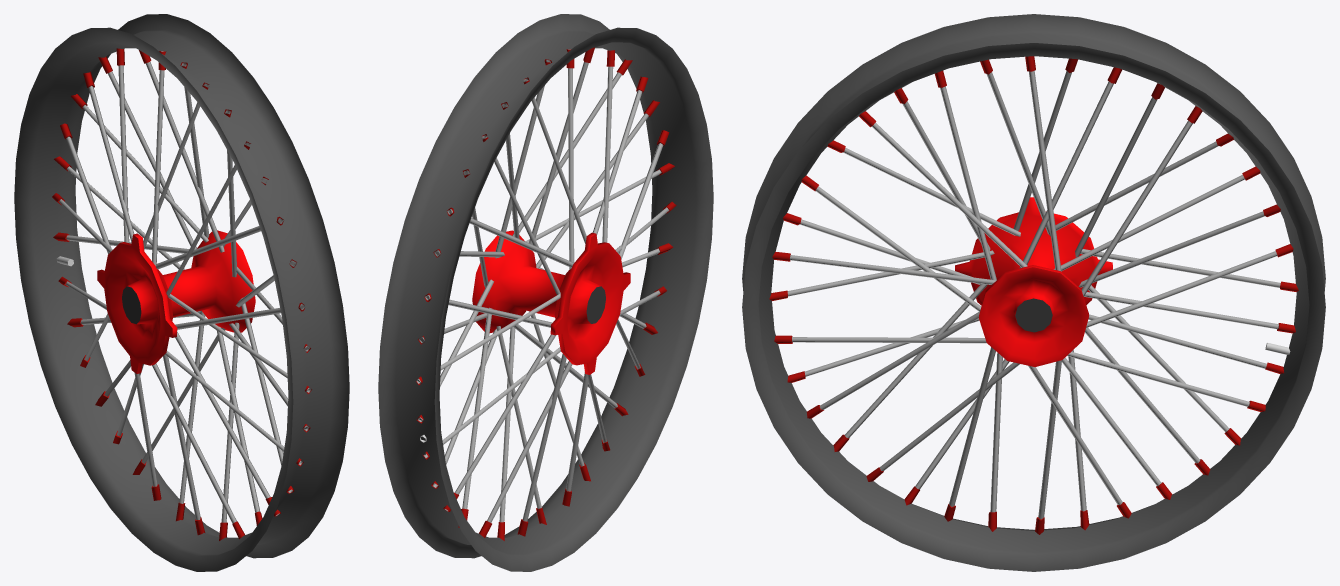
The model's file is FrontWheel.glb.
3 views of the same model, side by side, from view 1: azimuth 30°, elevation 25°; view 2: azimuth 150°, elevation 25°; view 3: azimuth 270°, elevation 25° (orthographic). The views are drawn at different scales.
Visible parts, largest first — view 1: front_wheel_rim, front_wheel_spokes, front_wheel_hub, front_wheel_nipples, front_wheel_hub_center; view 2: front_wheel_rim, front_wheel_spokes, front_wheel_hub, front_wheel_nipples, front_wheel_hub_center; view 3: front_wheel_rim, front_wheel_spokes, front_wheel_hub, front_wheel_nipples, front_wheel_hub_center.
Part boxes in pixels (x1=…): front_wheel_rim: x1=14, y1=14, x2=349, y2=571; front_wheel_spokes: x1=59, y1=51, x2=310, y2=523; front_wheel_hub: x1=97, y1=230, x2=255, y2=373; front_wheel_nipples: x1=52, y1=48, x2=311, y2=540; front_wheel_hub_center: x1=122, y1=286, x2=141, y2=324; front_wheel_rim: x1=378, y1=14, x2=713, y2=571; front_wheel_spokes: x1=416, y1=49, x2=669, y2=522; front_wheel_hub: x1=472, y1=230, x2=630, y2=374; front_wheel_nipples: x1=416, y1=47, x2=676, y2=540; front_wheel_hub_center: x1=586, y1=286, x2=605, y2=323; front_wheel_rim: x1=742, y1=14, x2=1325, y2=571; front_wheel_spokes: x1=787, y1=70, x2=1280, y2=519; front_wheel_hub: x1=955, y1=197, x2=1112, y2=366; front_wheel_nipples: x1=769, y1=56, x2=1298, y2=534; front_wheel_hub_center: x1=1015, y1=298, x2=1052, y2=332.
Bounding box in the file's own units: 0.3768 × 1.86 × 1.86.
